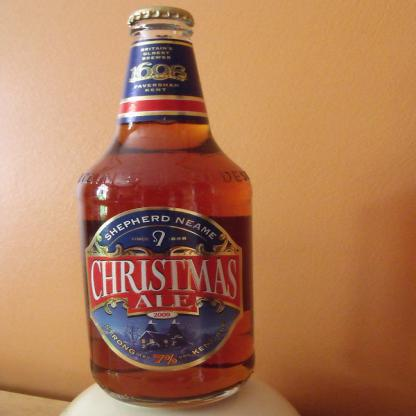drinking: (78, 6, 253, 408)
